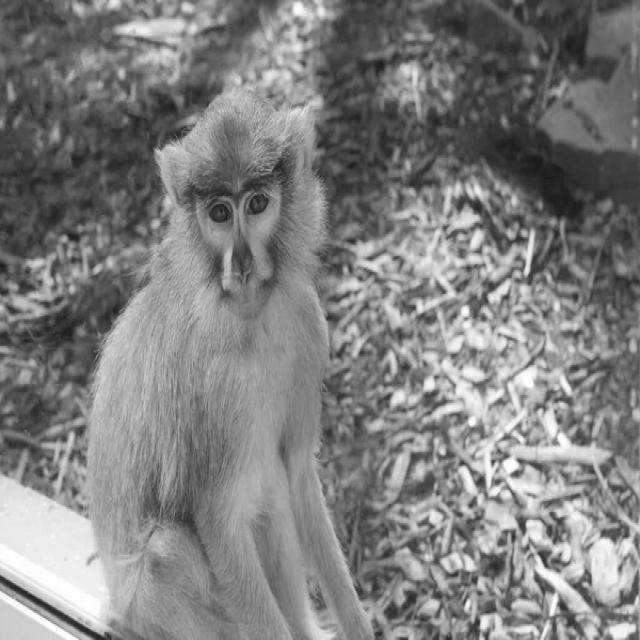Animal: (86, 87, 374, 640)
